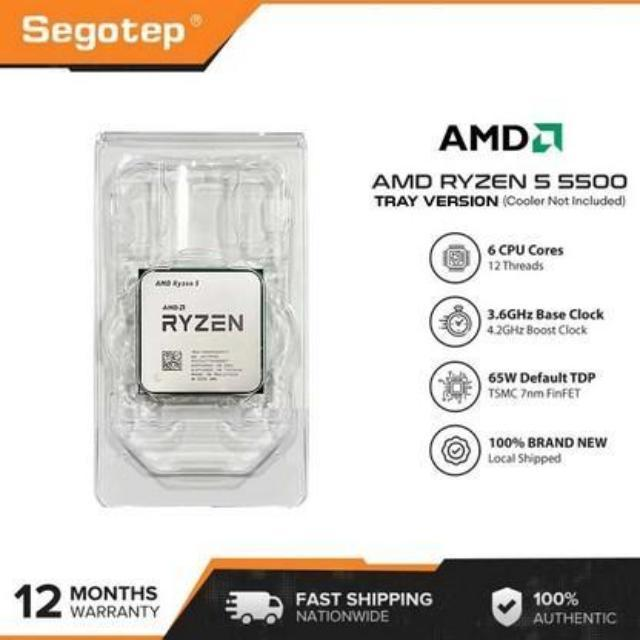CPU: (142, 270, 264, 392)
